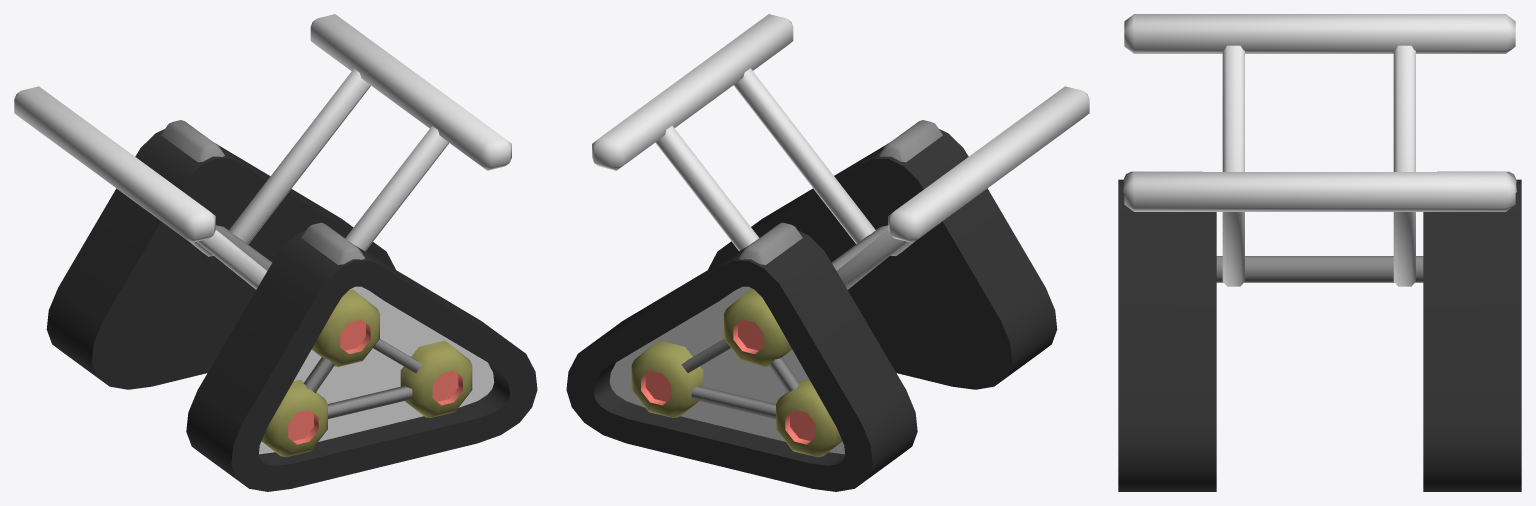
The model's file is caterpillar_4.fbx.
The picture shows the model from 3 angles, left to right: view 1: azimuth 30°, elevation 25°; view 2: azimuth 150°, elevation 25°; view 3: azimuth 270°, elevation 25°; orthographic projection. The views are drawn at different scales.
Parts seen in each view (by area): view 1: caterpillar_4; view 2: caterpillar_4; view 3: caterpillar_4.
Part boxes in pixels (x1,y1,x2,y2): caterpillar_4: (14, 14, 537, 491); caterpillar_4: (566, 14, 1089, 491); caterpillar_4: (1118, 14, 1521, 491).
Bounding box in the file's own units: 211 × 169 × 195.
